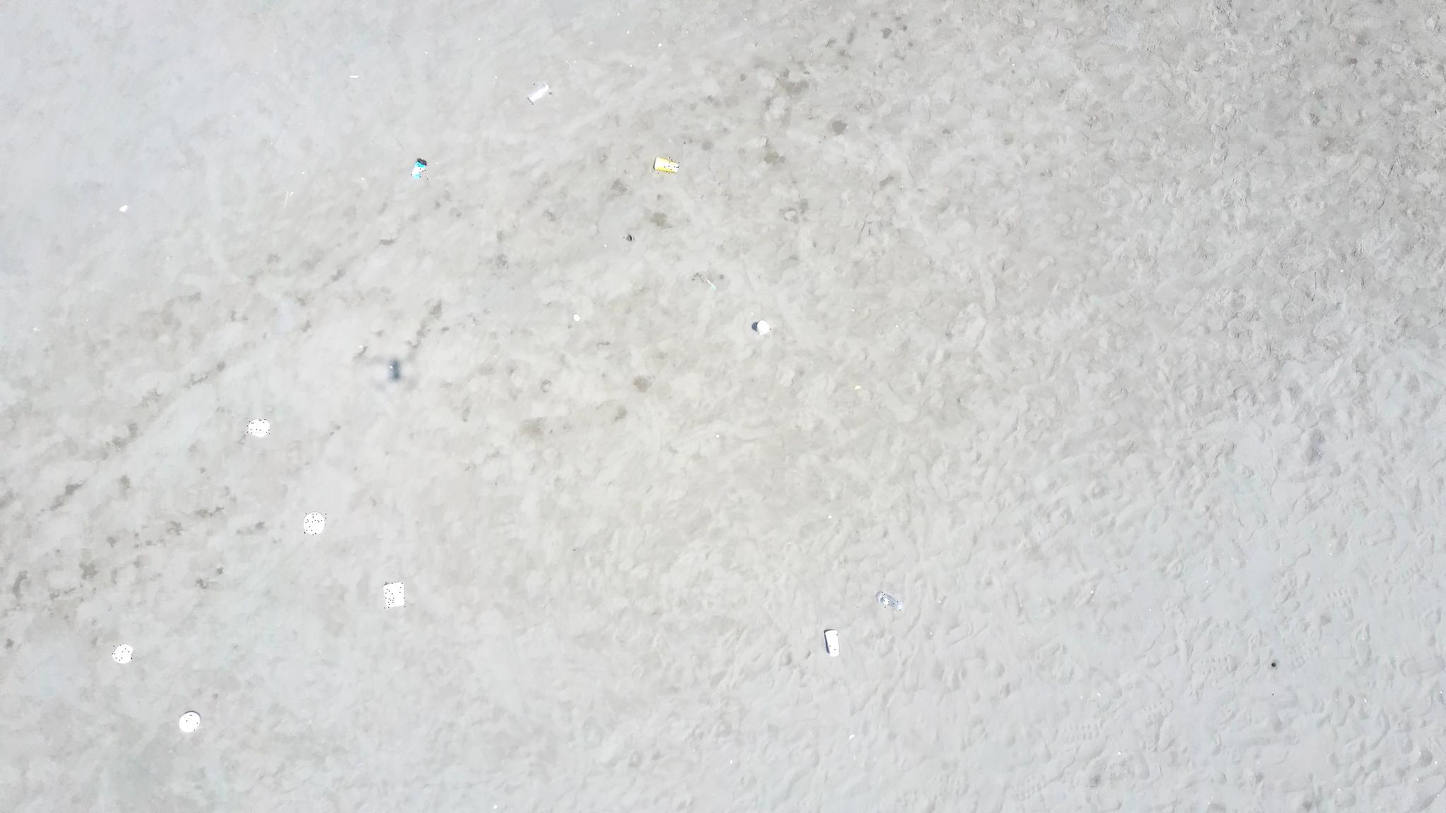Garbage: (383, 582, 404, 607), (877, 590, 901, 611), (303, 513, 325, 534), (528, 83, 549, 103), (179, 710, 199, 731), (246, 419, 269, 436), (112, 644, 133, 662), (652, 157, 679, 171), (823, 630, 838, 655), (412, 157, 426, 178), (751, 320, 770, 335), (388, 358, 399, 380), (118, 205, 128, 212), (573, 313, 580, 321), (626, 234, 633, 241), (348, 74, 359, 78)
